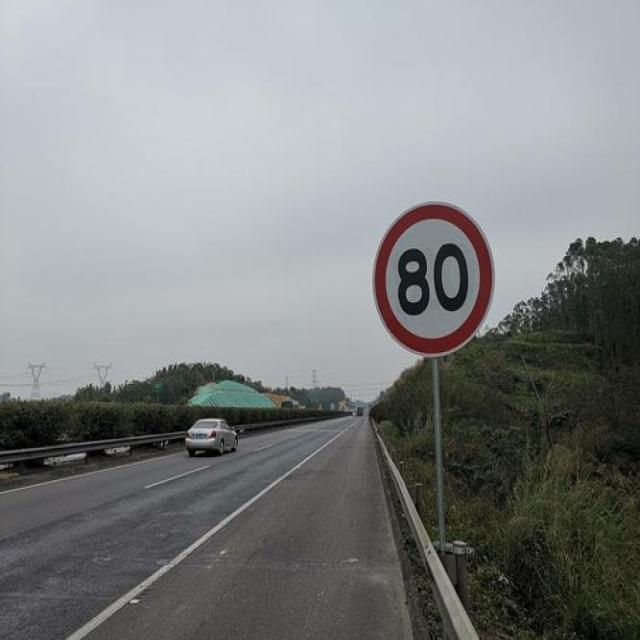speed limit 80: (371, 202, 495, 357)
